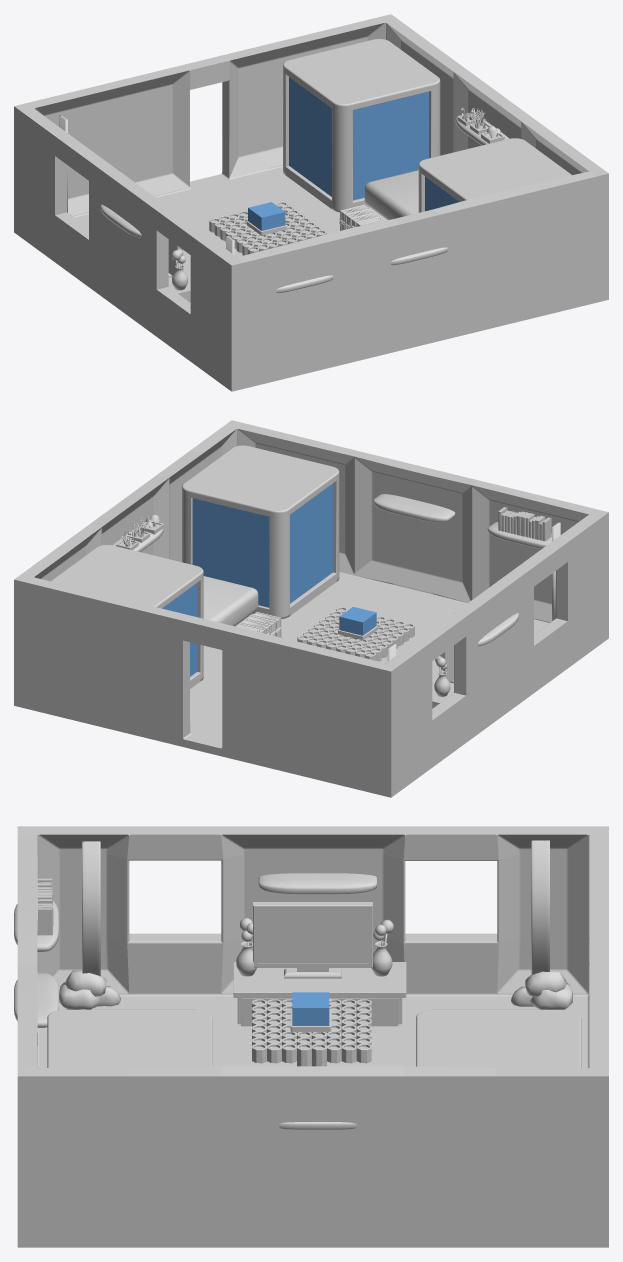
File: UtopiaEnvironment.fbx
3 renders of one model, top to bottom at view 1: azimuth 30°, elevation 25°; view 2: azimuth 150°, elevation 25°; view 3: azimuth 270°, elevation 25°, orthographic. The views are drawn at different scales.
Parts seen in each view (by area): view 1: U-Room, U-AquariumOne, U-AquariumGlassOne, U-AquariumTwo, U-Table, U-Shelfs, U-Chest, U-AquariumGlassTwo; view 2: U-Room, U-AquariumTwo, U-AquariumGlassTwo, U-AquariumOne, U-Table, U-Shelfs, U-Books, U-AquariumGlassOne, U-Chest; view 3: U-Room, U-AquariumOne, U-AquariumTwo, U-Ranbows, U-TV-Stand, U-Table, U-TV Stand, U-Shelfs, U-Books, U-FlowerVaseTwo, U-FlowerVaseOne.
Part boxes in pixels (bbox=[...]): U-Room: bbox=[14, 14, 608, 391]; U-AquariumOne: bbox=[283, 39, 440, 212]; U-AquariumGlassOne: bbox=[289, 77, 428, 200]; U-AquariumTwo: bbox=[418, 138, 571, 212]; U-Table: bbox=[209, 201, 326, 255]; U-Shelfs: bbox=[100, 115, 509, 292]; U-Chest: bbox=[339, 204, 385, 230]; U-AquariumGlassTwo: bbox=[425, 176, 459, 211]; U-Room: bbox=[14, 420, 608, 797]; U-AquariumTwo: bbox=[182, 445, 339, 618]; U-AquariumGlassTwo: bbox=[192, 484, 332, 607]; U-AquariumOne: bbox=[51, 545, 203, 688]; U-Table: bbox=[297, 607, 414, 661]; U-Shelfs: bbox=[112, 494, 551, 646]; U-Books: bbox=[498, 507, 551, 541]; U-AquariumGlassOne: bbox=[162, 583, 197, 676]; U-Chest: bbox=[237, 612, 281, 637]; U-Room: bbox=[17, 826, 608, 1247]; U-AquariumOne: bbox=[416, 1009, 581, 1067]; U-AquariumTwo: bbox=[47, 1009, 212, 1067]; U-Ranbows: bbox=[59, 840, 572, 1009]; U-TV-Stand: bbox=[253, 902, 372, 978]; U-Table: bbox=[252, 999, 371, 1066]; U-TV Stand: bbox=[233, 962, 406, 1026]; U-Shelfs: bbox=[14, 873, 376, 1129]; U-Books: bbox=[37, 878, 53, 935]; U-FlowerVaseTwo: bbox=[371, 919, 393, 976]; U-FlowerVaseOne: bbox=[236, 918, 256, 976].
Bounding box in the file's own units: 1018 × 322 × 1006.
